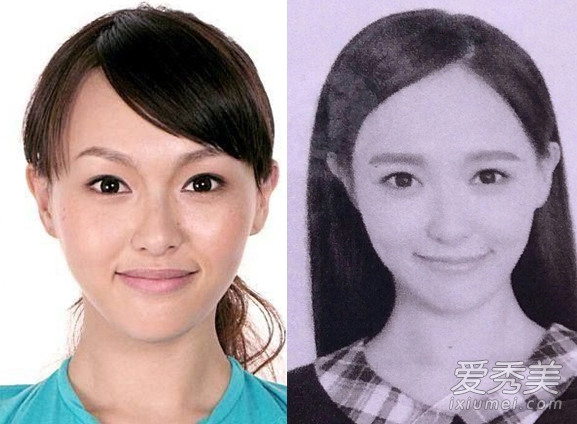unmask: (62, 116, 254, 325)
